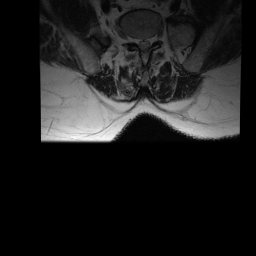CCS_normal: (141, 32, 146, 55)
LFS_normal: (151, 31, 156, 48)
LLS_normal: (146, 31, 151, 52)
RFS_normal: (130, 30, 136, 46)
RLS_normal: (136, 32, 141, 51)
